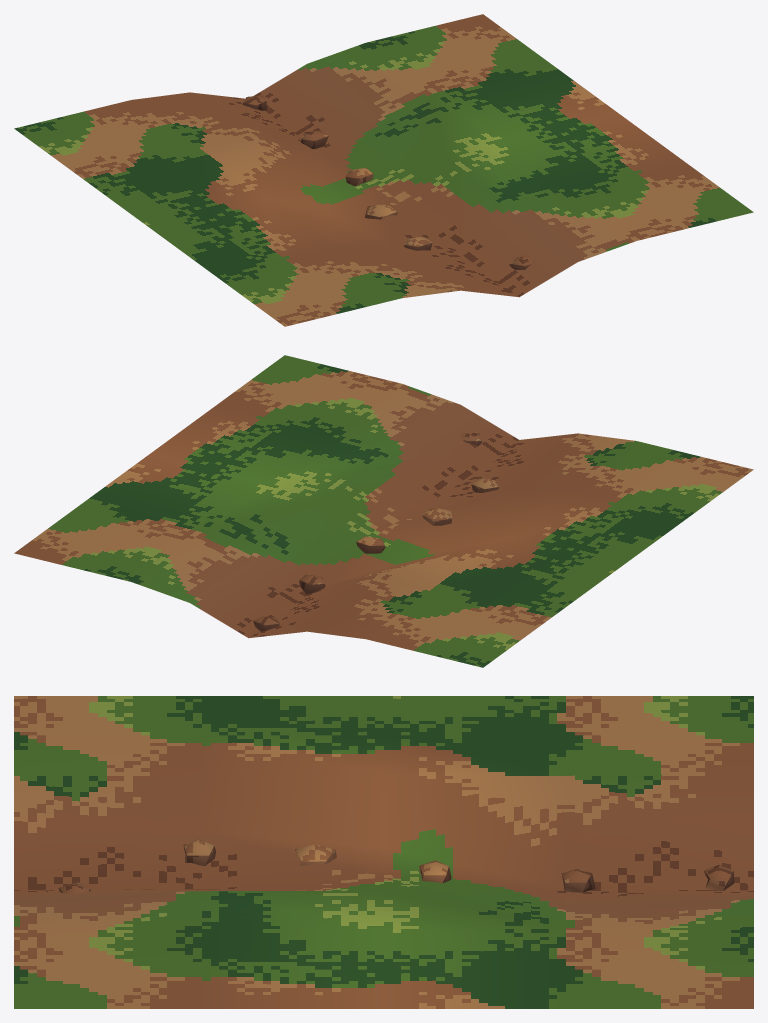
Rendered from land.wash__jungle.glb.
The picture shows the model from 3 angles, top to bottom: view 1: azimuth 30°, elevation 25°; view 2: azimuth 150°, elevation 25°; view 3: azimuth 270°, elevation 25°; orthographic projection. The views are drawn at different scales.
Visible parts, largest first — view 1: kit_shell_ground, kit_pebbles; view 2: kit_shell_ground, kit_pebbles; view 3: kit_shell_ground, kit_pebbles.
Boxes of the visible parts, x1,y1,x2,y2 form: kit_shell_ground: (14,14,753,326); kit_pebbles: (242,95,532,269); kit_shell_ground: (14,355,753,667); kit_pebbles: (253,433,498,631); kit_shell_ground: (14,696,753,1008); kit_pebbles: (58,839,734,893).
Size of the model in its own units: 8 by 0.45 by 8.
2 materials, 2 textured.
